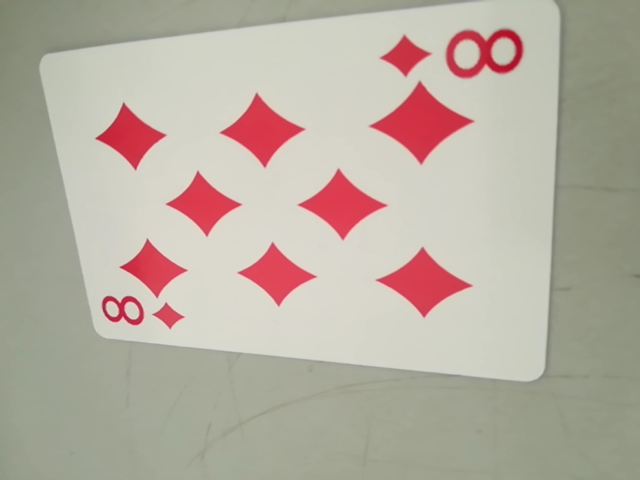fk 8: (381, 19, 527, 90), (98, 289, 184, 337)
